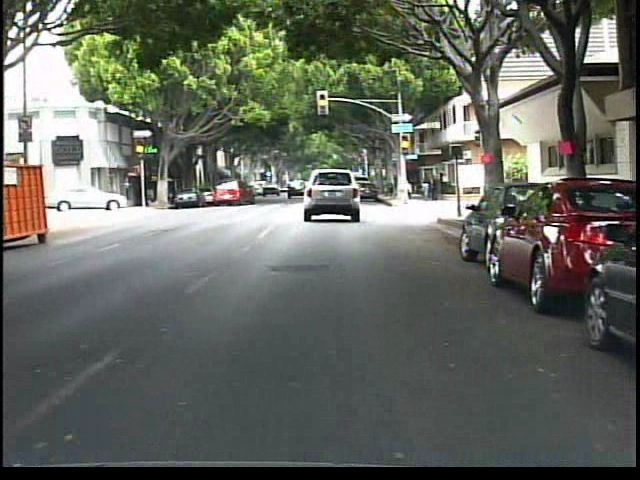person: (426, 168, 439, 204), (421, 172, 433, 202)
